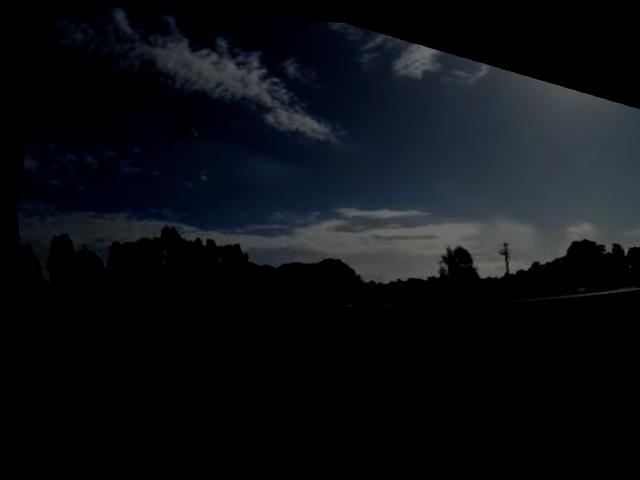uav: (160, 95, 216, 155)
